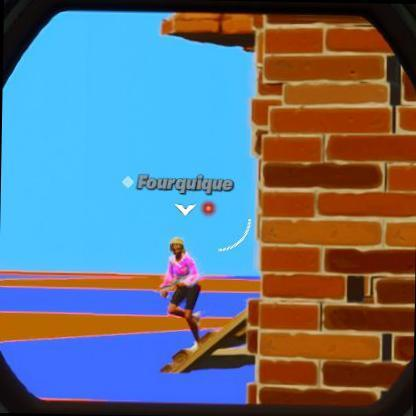person: (158, 236, 206, 348)
